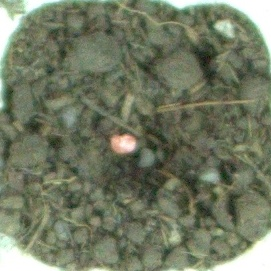chilli seed: (108, 130, 142, 156)
